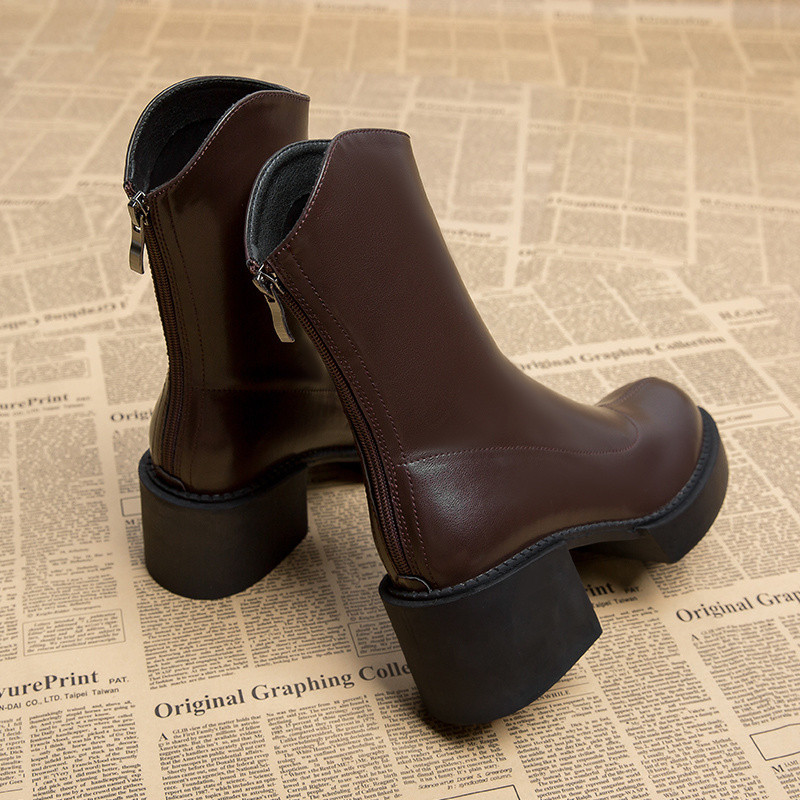boots: (241, 129, 732, 742), (120, 76, 376, 599)
